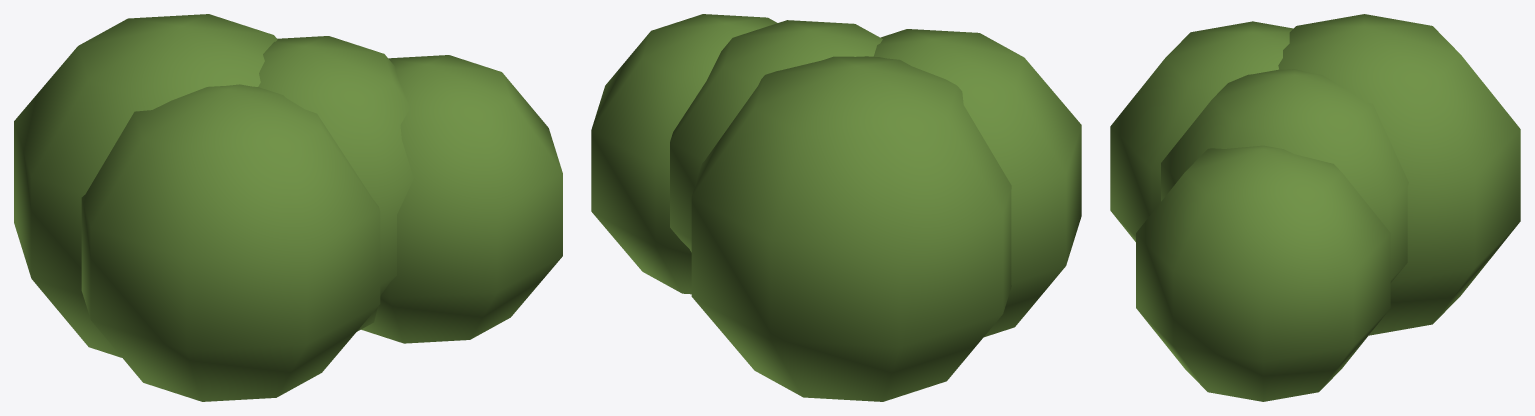
File: prop_bush1_5476.glb
3 renders of one model, left to right at view 1: azimuth 30°, elevation 25°; view 2: azimuth 150°, elevation 25°; view 3: azimuth 270°, elevation 25°, orthographic. The views are drawn at different scales.
Visible parts, largest first — view 1: prop_bush1_5476; view 2: prop_bush1_5476; view 3: prop_bush1_5476.
Part boxes in pixels (x1,y1,x2,y2): prop_bush1_5476: [14, 14, 562, 401]; prop_bush1_5476: [591, 14, 1081, 401]; prop_bush1_5476: [1110, 14, 1520, 401].
Size of the model in its own units: 0.6622 by 0.4502 by 0.5624.
1 material, 1 textured.
